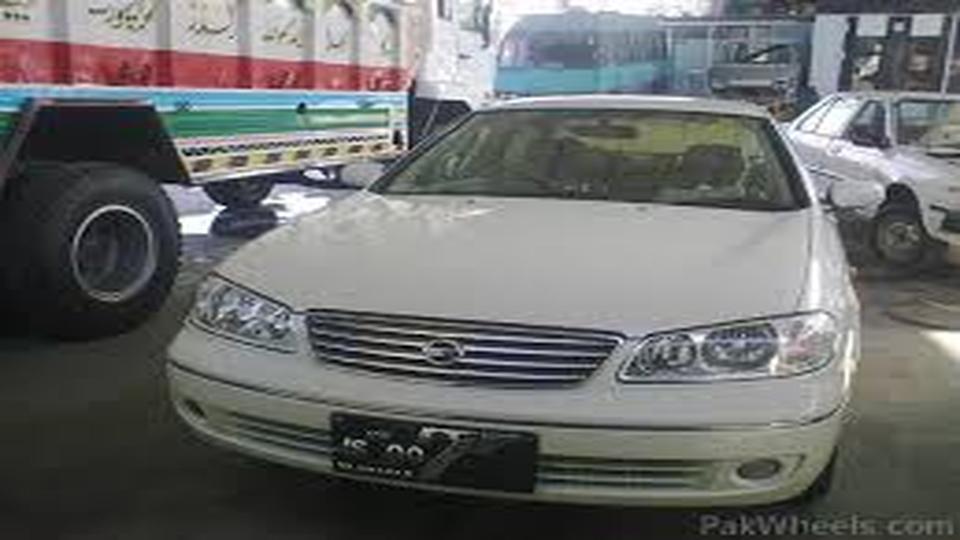NumberPlate: (334, 410, 544, 506)
